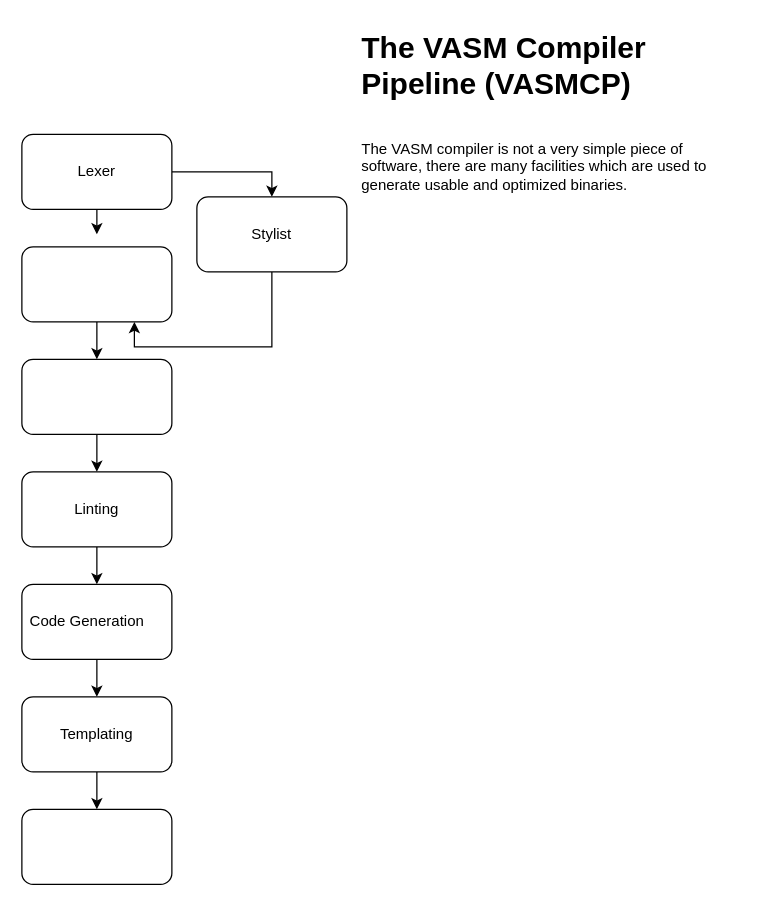
Some shapes in this 769 by 906 pixel diagram are drawn without their labels. The shapes that lost their labels are listed below. From the top down, each one's box as (x1, y1, x2, y2) in pixels, then its label:
(21, 246, 172, 322): Parser
(21, 358, 172, 434): AST
(21, 808, 172, 884): Export
